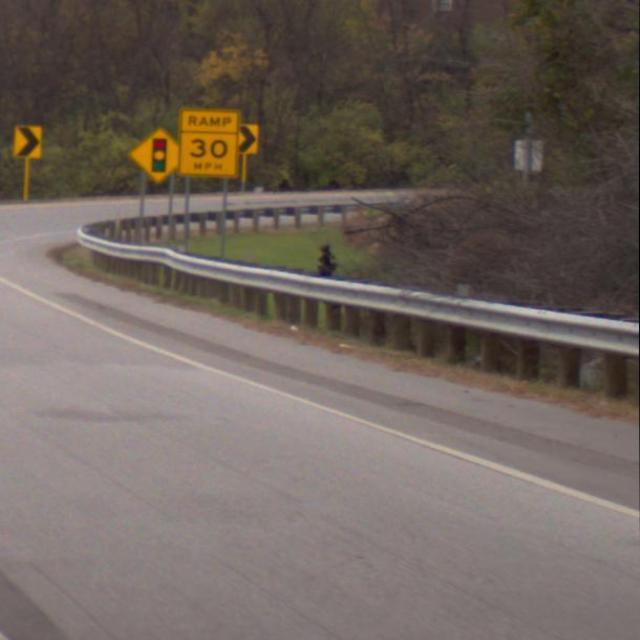Guard rail: (70, 219, 640, 410)
